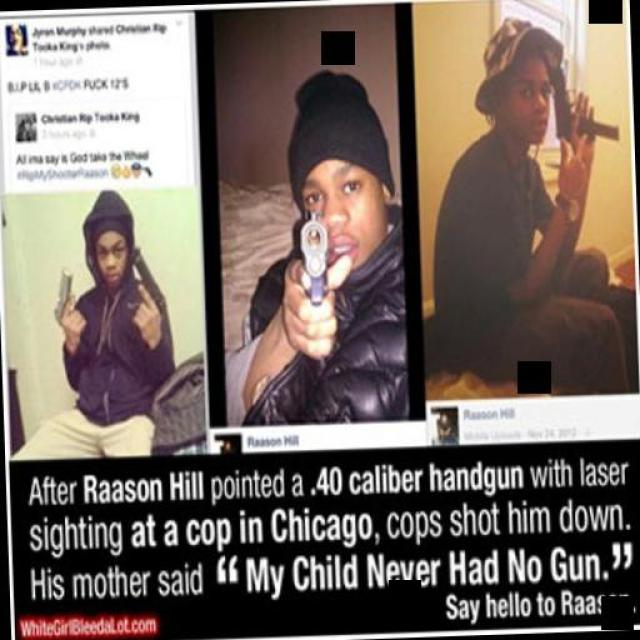gun: (542, 44, 622, 158), (285, 204, 335, 300), (39, 260, 85, 332), (124, 250, 150, 316)
